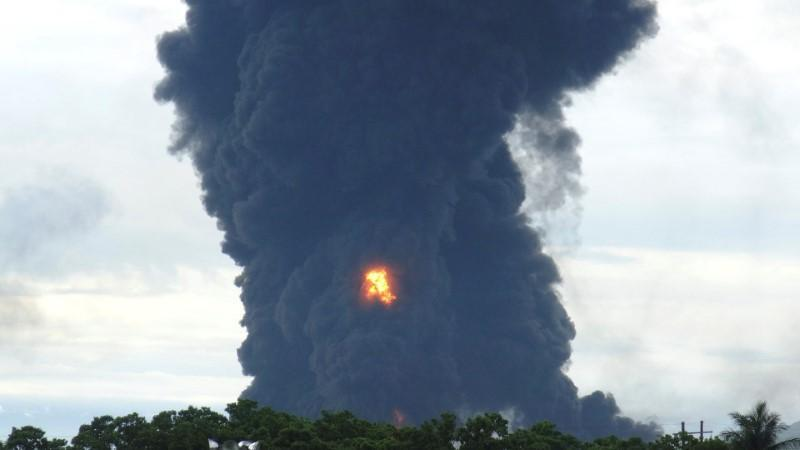fire: (367, 271, 392, 298)
